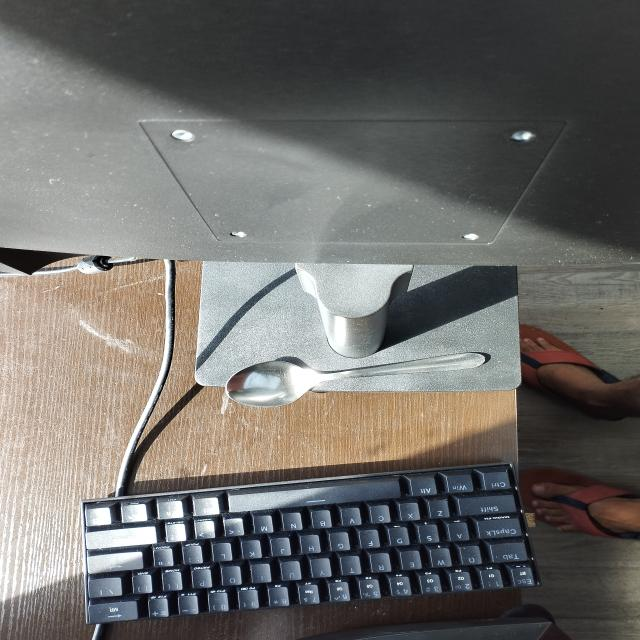Spoon: (207, 349, 515, 414)
